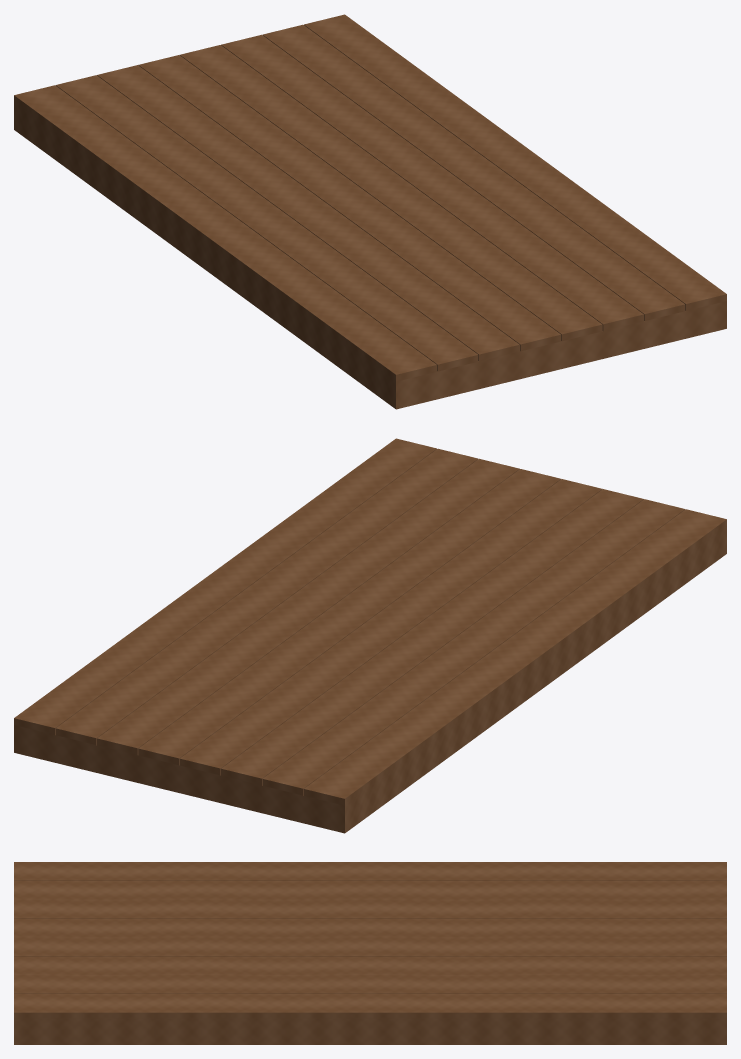
Rendered from MRP_PorchFloor_1x2m.fbx.
3 renders of one model, top to bottom at view 1: azimuth 30°, elevation 25°; view 2: azimuth 150°, elevation 25°; view 3: azimuth 270°, elevation 25°, orthographic. The views are drawn at different scales.
Parts seen in each view (by area): view 1: Body; view 2: Body; view 3: Body.
Boxes of the visible parts, bbox=[...] form: Body: bbox=[14, 14, 726, 409]; Body: bbox=[14, 438, 726, 833]; Body: bbox=[14, 862, 726, 1044].
Size of the model in its own units: 1 by 0.1 by 2.
